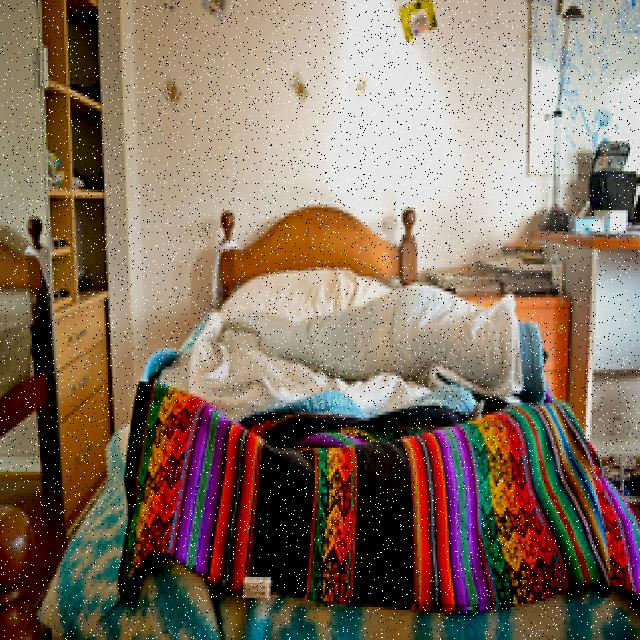bed: (78, 255, 640, 640)
